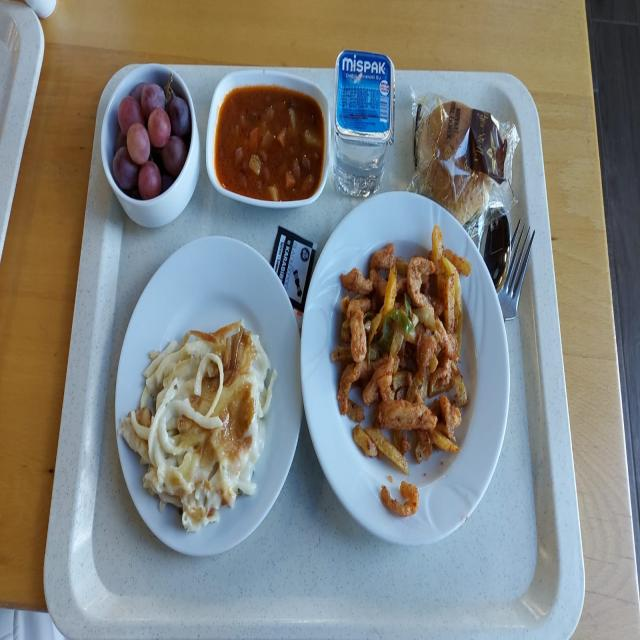ana_yemek: (305, 187, 498, 544), (113, 235, 299, 555)
yan_yemek: (204, 70, 325, 212), (101, 63, 201, 227)
